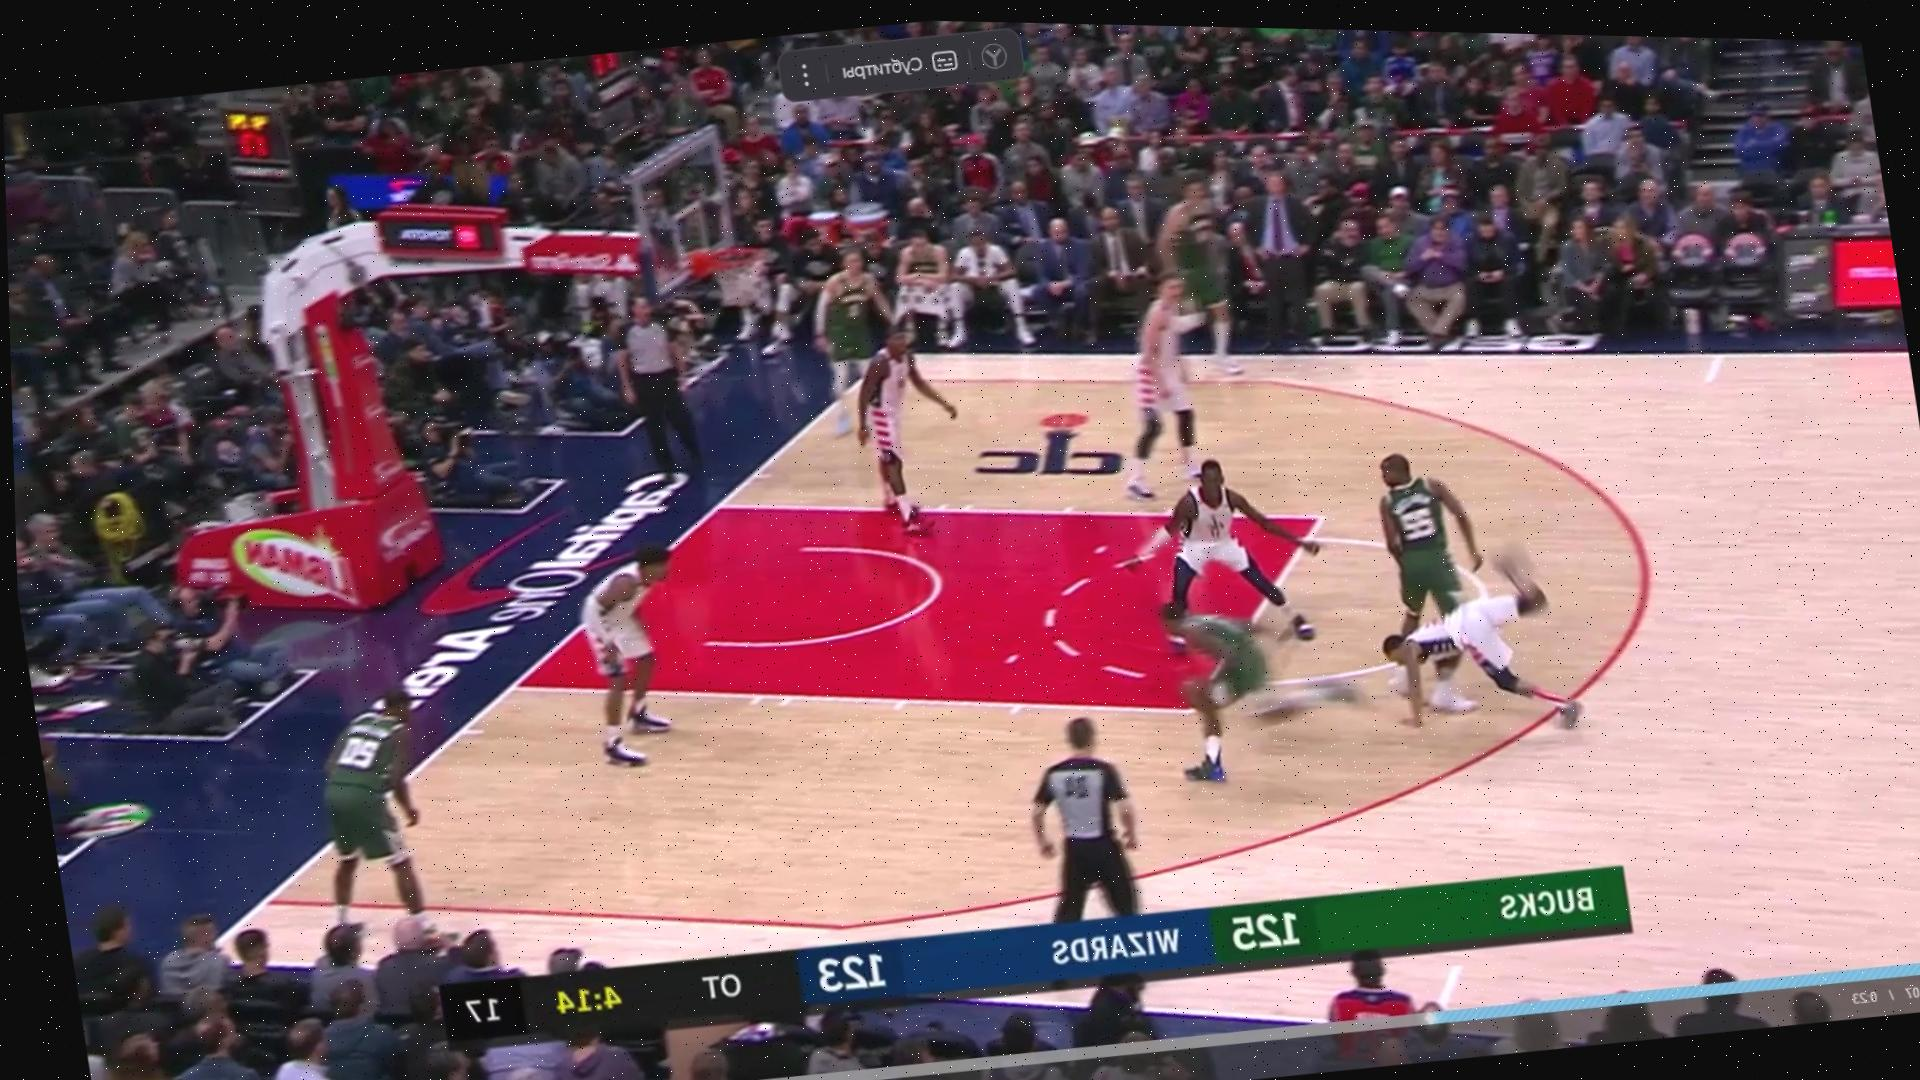foul: (1141, 553, 1588, 815)
